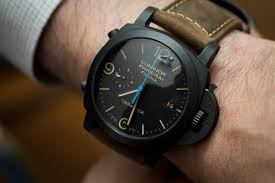clock: (94, 37, 188, 139)
